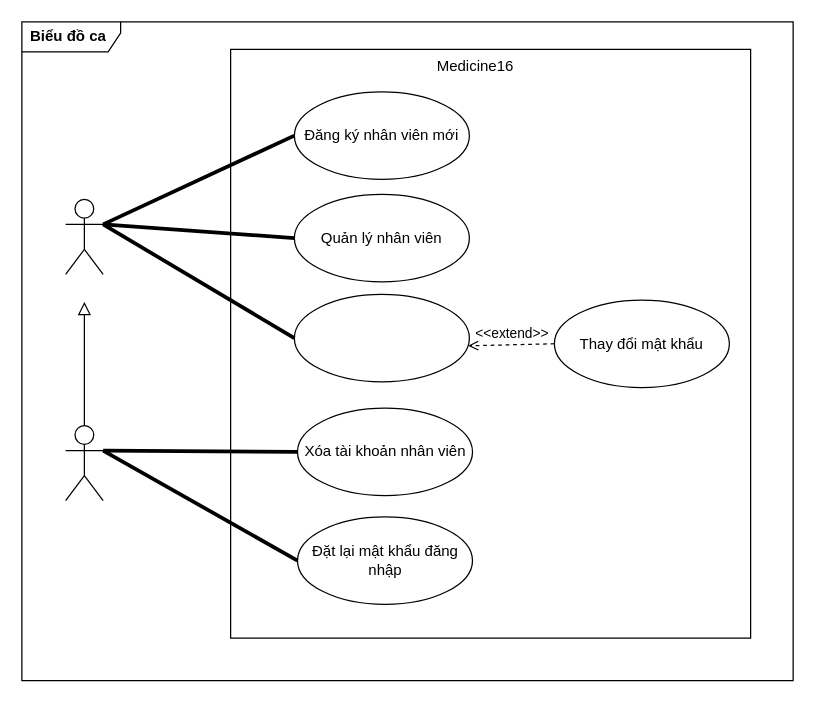
Image size: 815x703. Some labels were removed from this diagram. The box of each missing label's shape, as (x1, y1, x2, y2) in pixels:
Nhân viên: (64, 198, 103, 274)
Quản lý tài khoản: (293, 293, 469, 382)
Quản trị viên: (64, 424, 103, 501)
